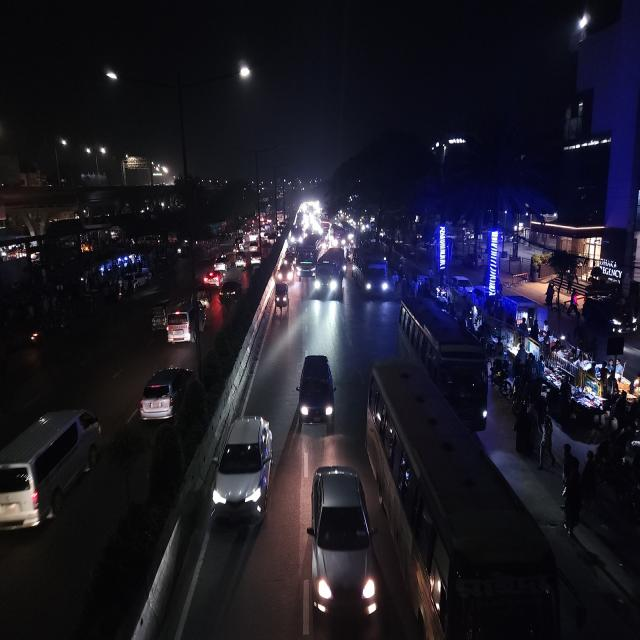bus: (364, 328, 566, 640), (396, 290, 490, 430), (352, 242, 393, 304), (314, 246, 346, 304), (295, 233, 321, 284)
car: (0, 402, 104, 538), (306, 461, 378, 631), (211, 410, 275, 536), (137, 362, 196, 426), (296, 348, 336, 431), (166, 296, 208, 348), (220, 276, 244, 307), (277, 258, 293, 283), (202, 268, 220, 287), (214, 252, 229, 272), (284, 247, 296, 266), (264, 229, 278, 245), (250, 250, 262, 267)
cng: (272, 280, 292, 318), (150, 298, 168, 335), (233, 251, 246, 269)
pedestrian: (559, 464, 585, 538), (514, 400, 538, 460), (537, 414, 556, 468), (560, 443, 580, 488)
